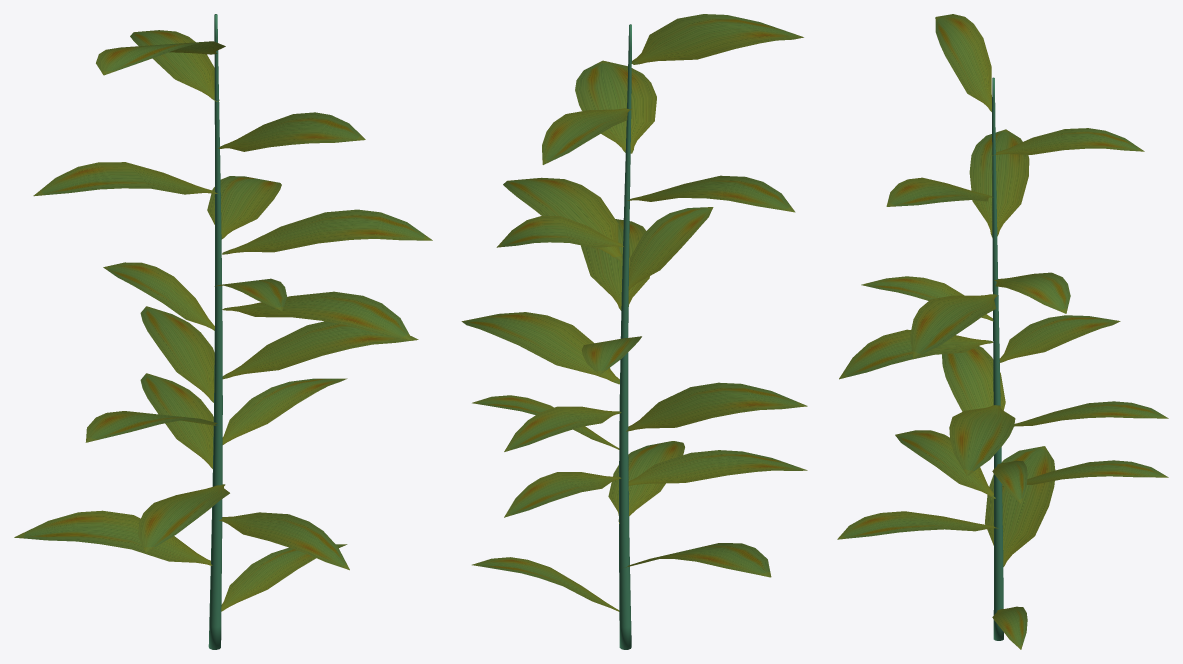
3 renders of one model, left to right at view 1: azimuth 30°, elevation 25°; view 2: azimuth 150°, elevation 25°; view 3: azimuth 270°, elevation 25°, orthographic. The views are drawn at different scales.
Visible parts, largest first — view 1: 海草根茎.001, 海草叶片_06.005, 海草叶片_02.001, 海草叶片_06.004, 海草叶片_06.003, 海草叶片_04.003, 海草叶片_10.001, 海草叶片_04.002, 海草叶片_11.001, 海草叶片_03.002, 海草叶片_03.003, 海草叶片_01.003 (+7 smaller); view 2: 海草根茎.001, 海草叶片_13.001, 海草叶片_05.001, 海草叶片_06.003, 海草叶片_11.001, 海草叶片_06.005, 海草叶片_03.003, 海草叶片_08.001, 海草叶片_10.001, 海草叶片_12.001, 海草叶片_09.001, 海草叶片_04.003 (+7 smaller); view 3: 海草叶片_10.001, 海草叶片_02.001, 海草根茎.001, 海草叶片_13.001, 海草叶片_06.005, 海草叶片_06.003, 海草叶片_05.001, 海草叶片_06.004, 海草叶片_07.001, 海草叶片_03.002, 海草叶片_12.001, 海草叶片_03.003 (+7 smaller).
Boxes of the visible parts, x1,y1,x2,y2 form: 海草根茎.001: (208,14,222,649); 海草叶片_06.005: (222,209,432,254); 海草叶片_02.001: (14,510,212,565); 海草叶片_06.004: (222,291,412,340); 海草叶片_06.003: (222,321,418,379); 海草叶片_04.003: (140,306,214,402); 海草叶片_10.001: (33,162,219,196); 海草叶片_04.002: (140,373,213,468); 海草叶片_11.001: (218,112,365,151); 海草叶片_03.002: (219,512,349,570); 海草叶片_03.003: (138,484,229,552); 海草叶片_01.003: (222,378,347,444); 海草根茎.001: (619,24,631,649); 海草叶片_13.001: (631,14,803,64); 海草叶片_05.001: (626,382,807,431); 海草叶片_06.003: (461,312,619,384); 海草叶片_11.001: (575,60,656,153); 海草叶片_06.005: (503,177,622,260); 海草叶片_03.003: (628,450,807,485); 海草叶片_08.001: (628,207,713,289); 海草叶片_10.001: (627,175,795,212); 海草叶片_12.001: (542,108,631,164); 海草叶片_09.001: (496,216,623,248); 海草叶片_04.003: (504,406,621,451); 海草叶片_10.001: (969,129,1029,237); 海草叶片_02.001: (985,446,1055,566); 海草根茎.001: (992,77,1003,640); 海草叶片_13.001: (935,14,991,111); 海草叶片_06.005: (910,294,997,358); 海草叶片_06.003: (949,405,1015,475); 海草叶片_05.001: (942,346,1005,411); 海草叶片_06.004: (839,329,993,379); 海草叶片_07.001: (999,315,1120,362); 海草叶片_03.002: (837,511,1002,539); 海草叶片_12.001: (991,128,1144,155); 海草叶片_03.003: (895,430,995,498).
Bounding box in the file's own units: 338 × 569 × 304.
4 materials, 3 textured.
